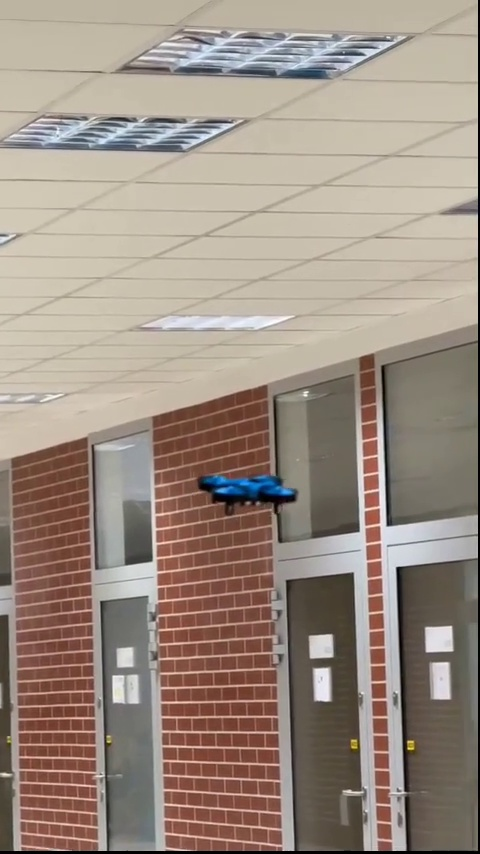drone: (198, 468, 293, 520)
